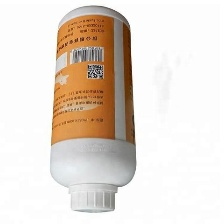insecticide: (47, 2, 138, 217)
